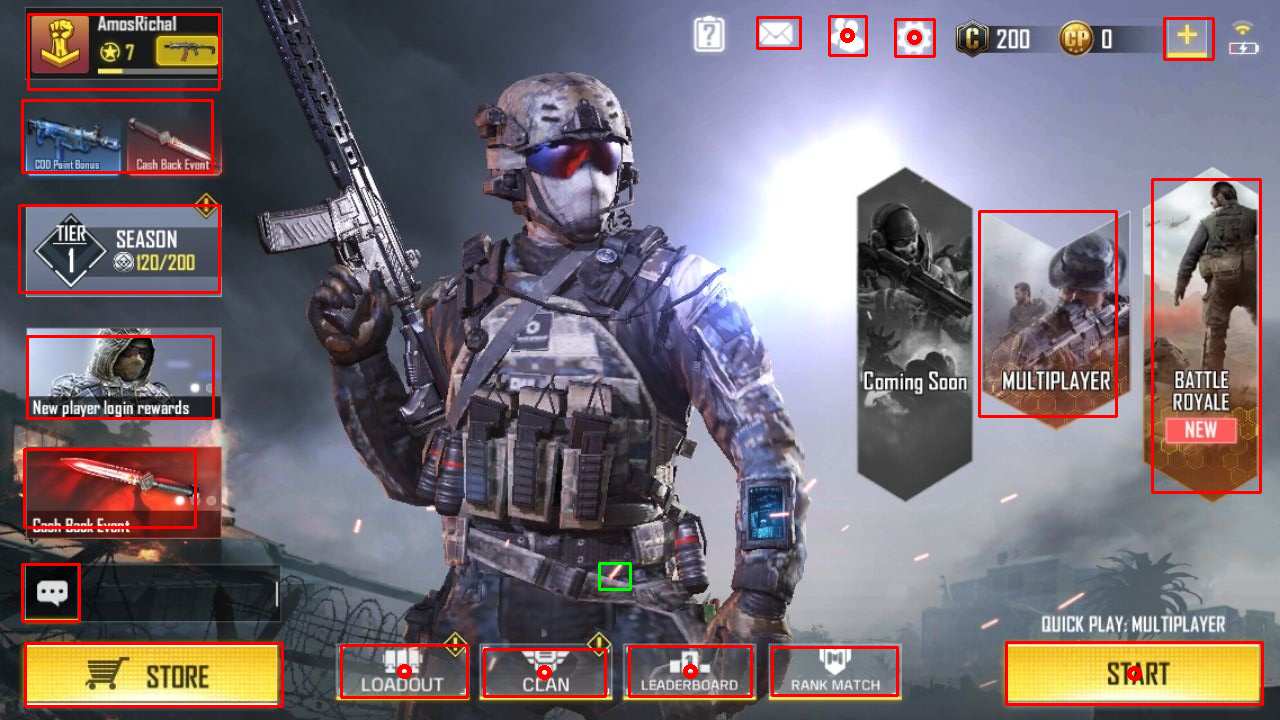other: (1152, 179, 1260, 492), (979, 211, 1116, 416), (19, 205, 219, 292), (25, 643, 282, 706), (1006, 642, 1262, 704), (27, 336, 213, 418), (28, 14, 219, 89), (22, 100, 212, 172), (24, 449, 195, 527), (341, 645, 467, 697), (629, 646, 751, 696), (772, 647, 897, 695), (484, 649, 605, 696), (22, 564, 79, 621), (1164, 18, 1213, 59), (829, 16, 866, 55), (895, 19, 934, 56), (757, 17, 800, 48), (599, 563, 630, 589)
